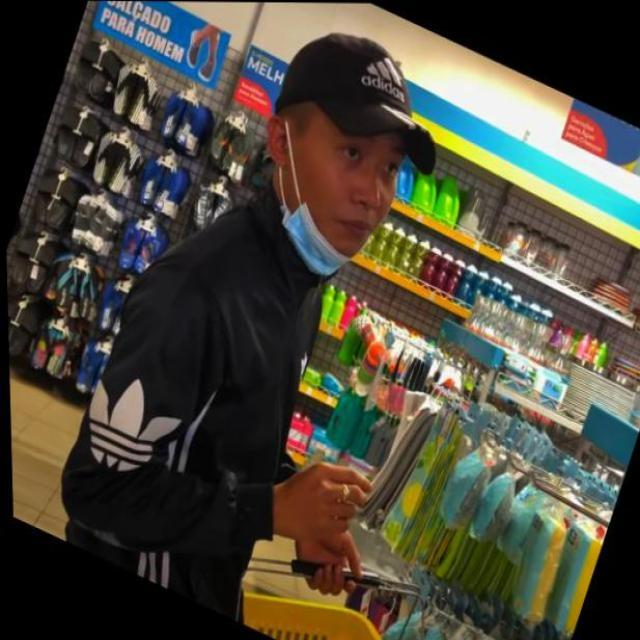hairnet: (262, 116, 407, 290)
